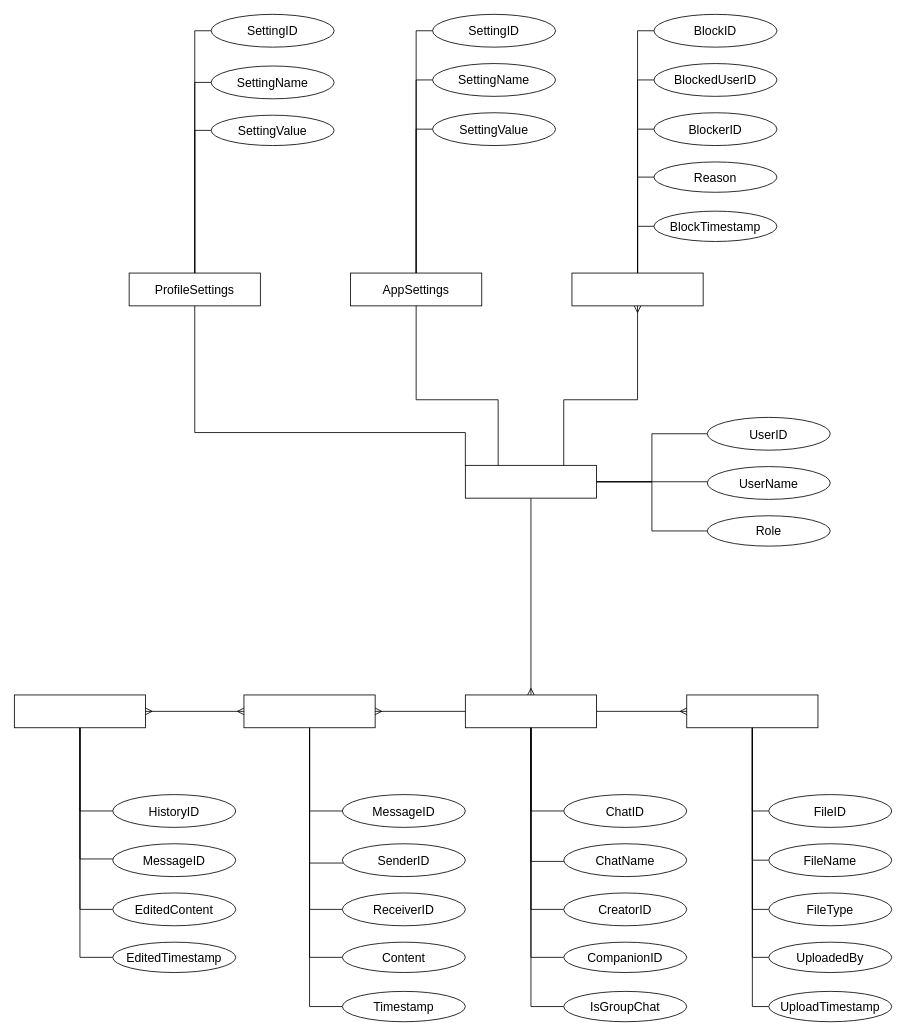
This 906x1036 diagram has some shape labels left out. The shapes that lost their labels are listed below. From the top down, each one's centre as x and y in pixels, then its label:
the point at 637,289: BlockedUsers
the point at 531,481: User
the point at 80,711: MessageHistory
the point at 309,711: Message
the point at 531,711: Chat
the point at 752,711: File
